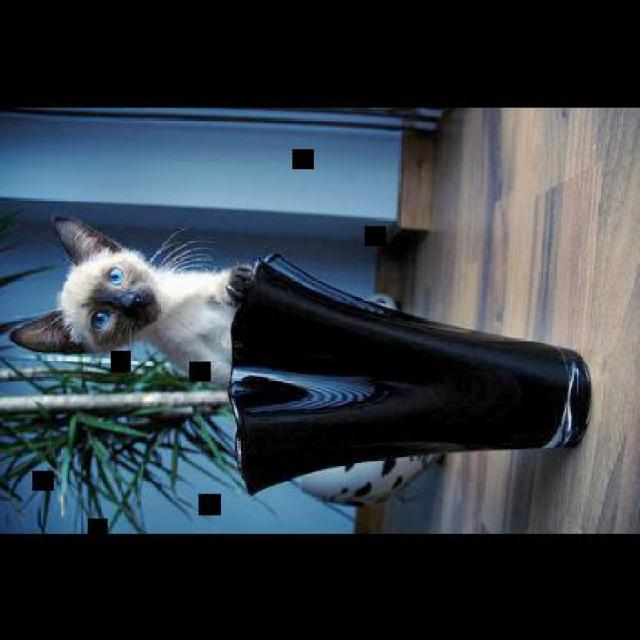unauthorized: (8, 214, 252, 386)
